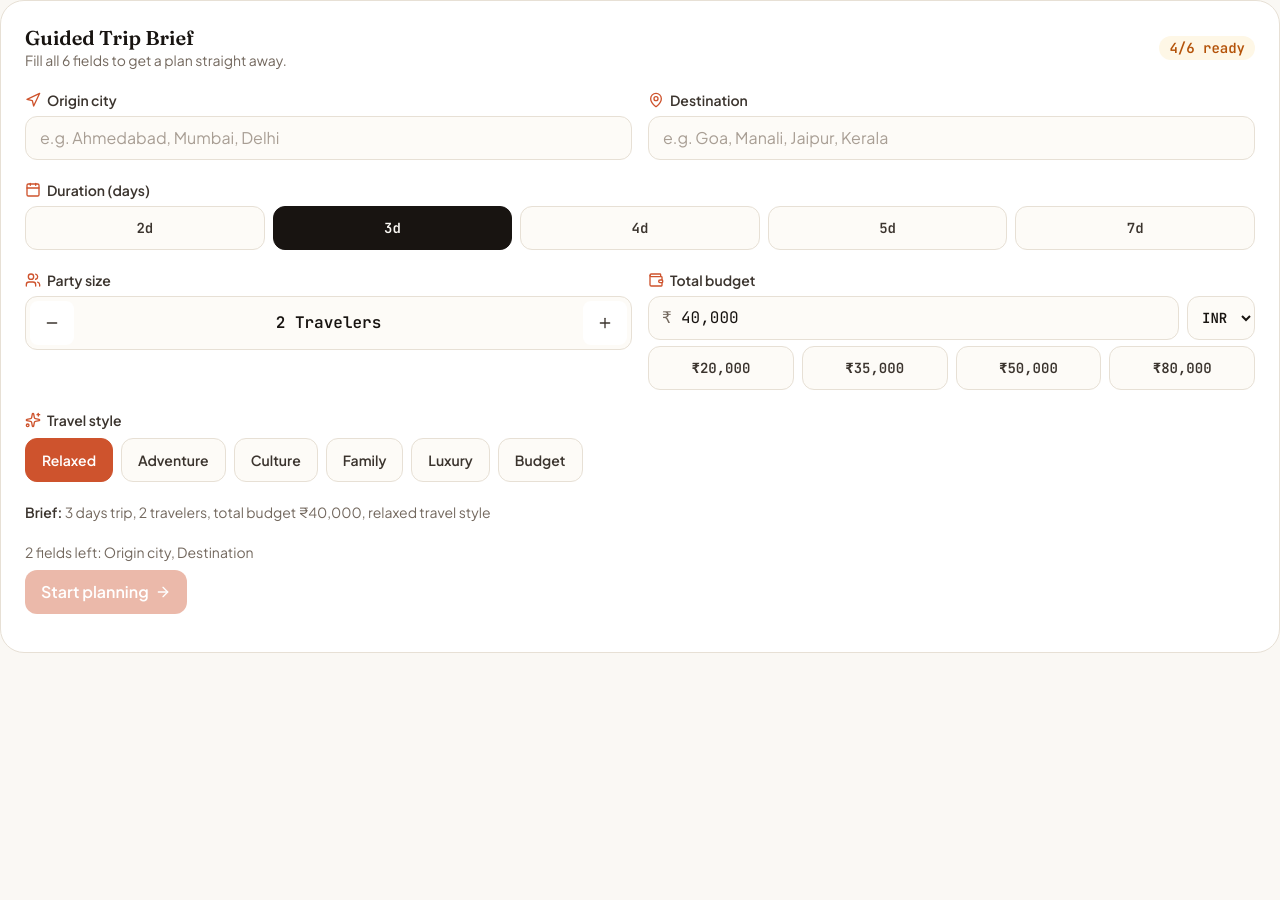
Test case: TripBriefBuilder › rescales the budget and the preset buttons when the currency changes
Select "USD" in the dropdown named "currency" at (1221, 318), box [1187, 296, 1255, 340]
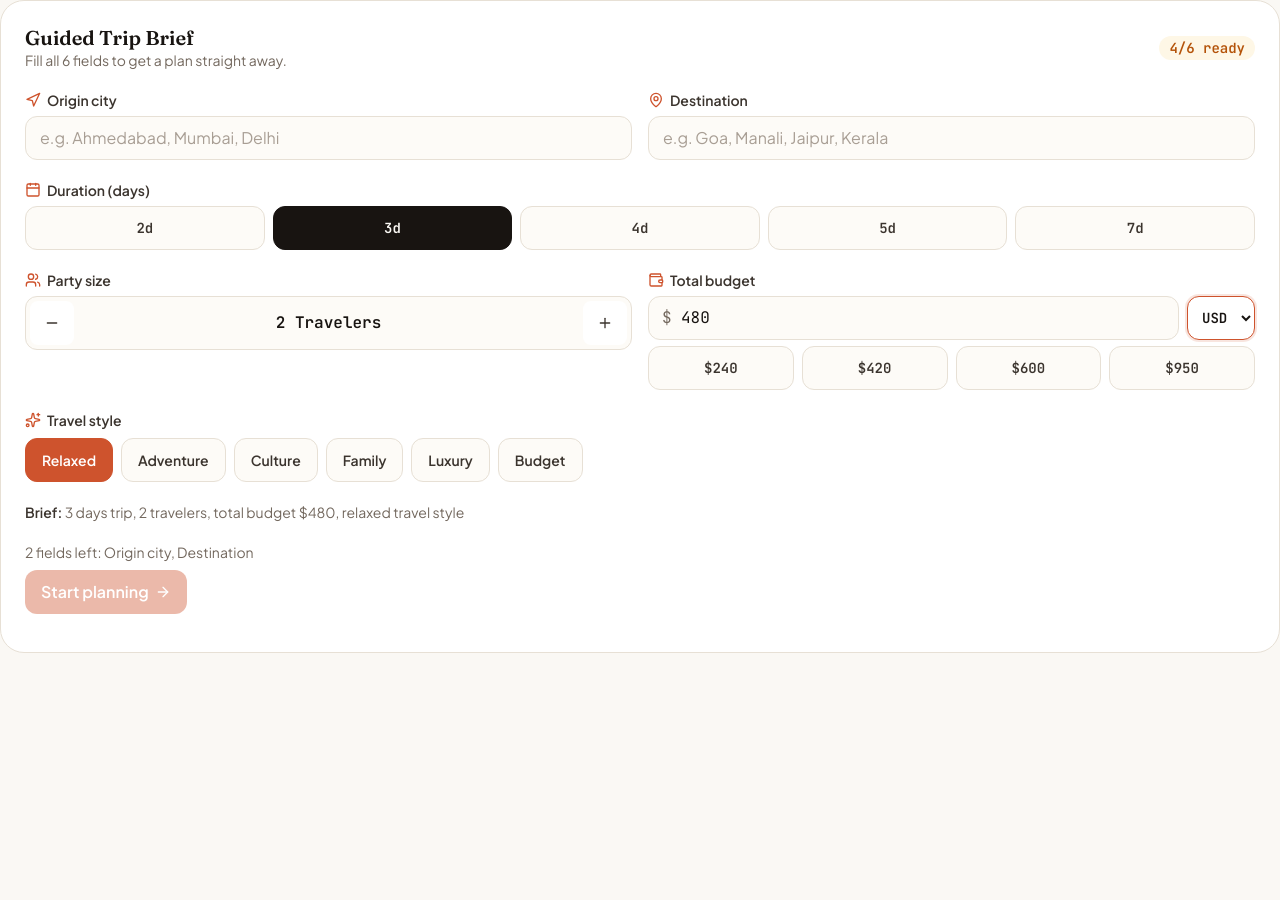
Now the field labelled "Total budget" holds "480", box [648, 296, 1179, 340]
Now the button named "Budget $240" is shown, box [648, 346, 794, 390]
